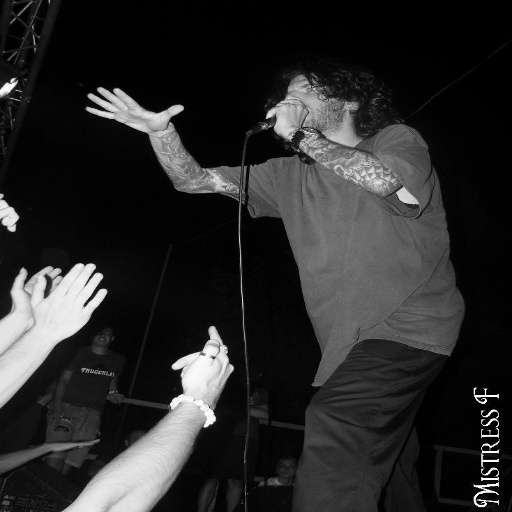hand: (169, 324, 234, 412), (85, 86, 184, 133), (8, 263, 60, 323), (265, 98, 308, 140), (45, 438, 101, 451), (0, 193, 18, 231), (46, 404, 66, 428), (104, 389, 126, 403), (38, 391, 50, 405)
